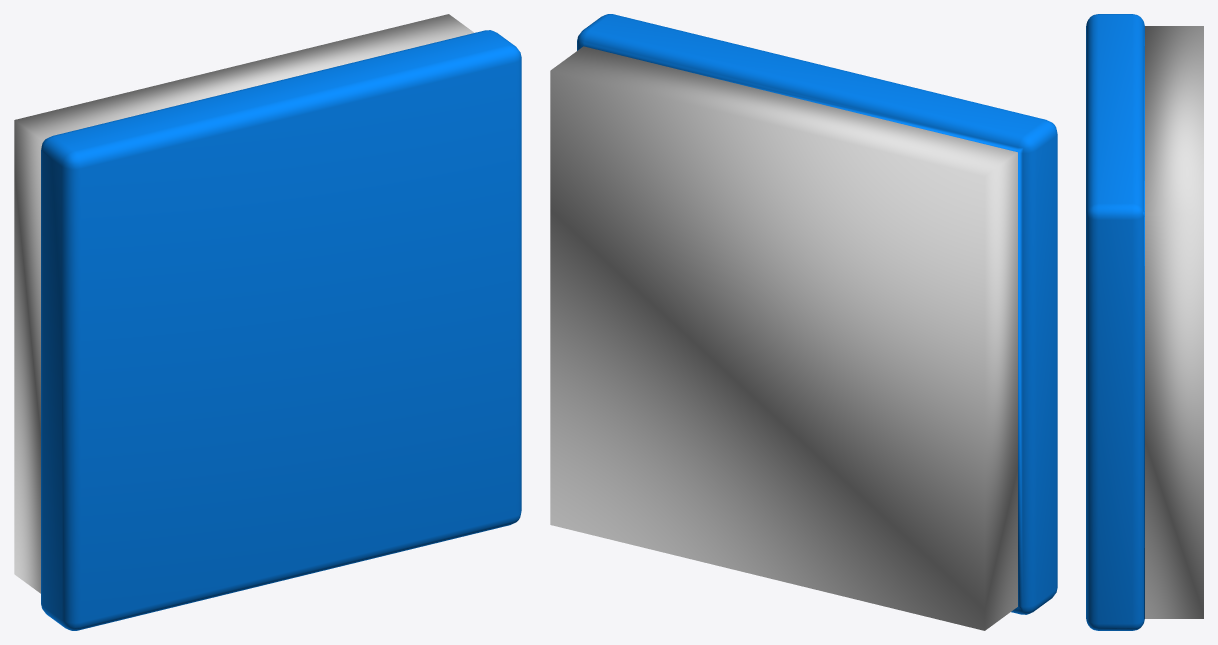
3 renders of one model, left to right at view 1: azimuth 30°, elevation 25°; view 2: azimuth 150°, elevation 25°; view 3: azimuth 270°, elevation 25°, orthographic. The views are drawn at different scales.
Visible parts, largest first — view 1: Base 2; view 2: Base 2; view 3: Base 2.
Boxes of the visible parts, <box> form: Base 2: <box>14,14,521,630</box>; Base 2: <box>550,14,1057,630</box>; Base 2: <box>1086,14,1203,630</box>.
Size of the model in its own units: 7.98 by 7.98 by 2.
